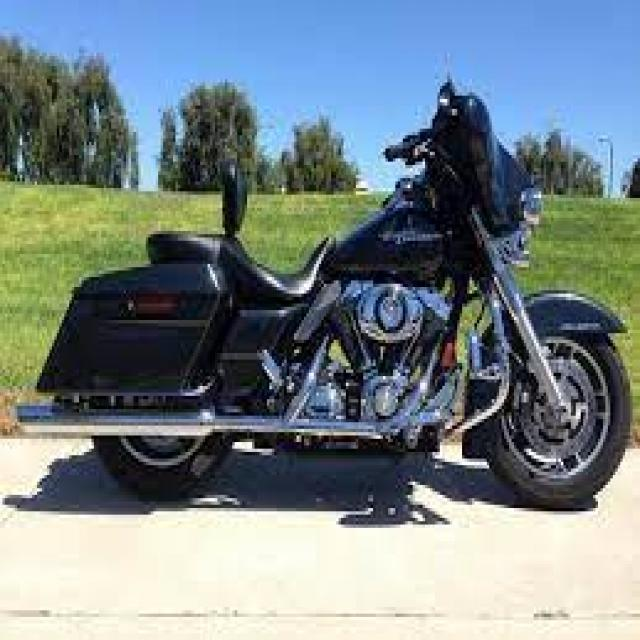Bike: (14, 76, 634, 513)
